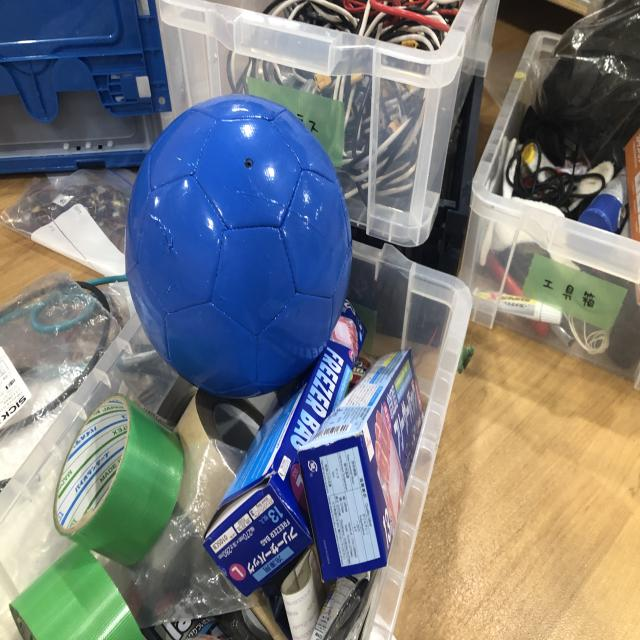blue_ball: (122, 96, 362, 397)
